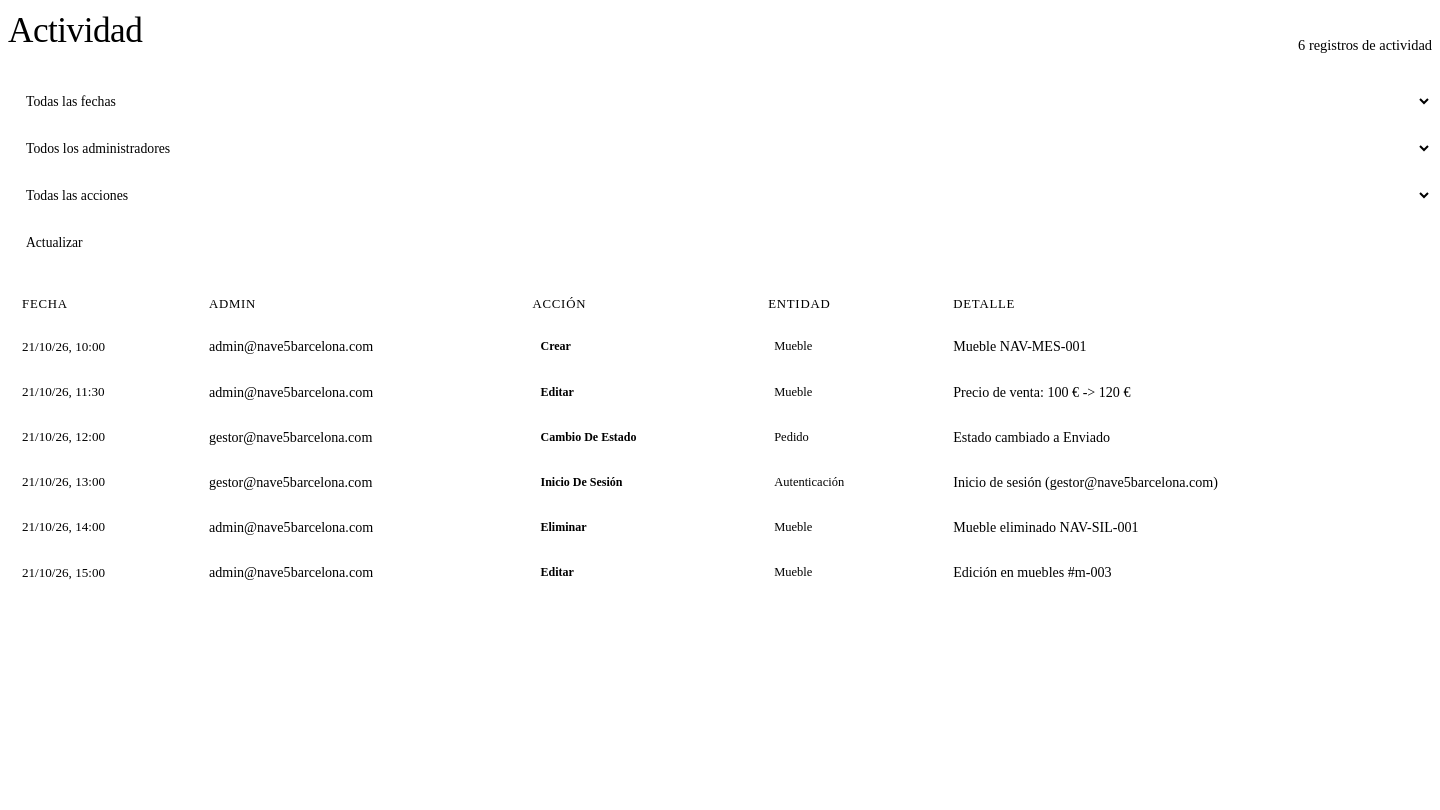
Scenario: ActividadTab › Filtros › filtra por acción
Expected: the text "Precio de venta: 100 € -> 120 €" is shown, [939,370,1432,415]
Select "Editar" in the dropdown named "Filtrar por acción" at (720, 195), box [8,178,1432,213]
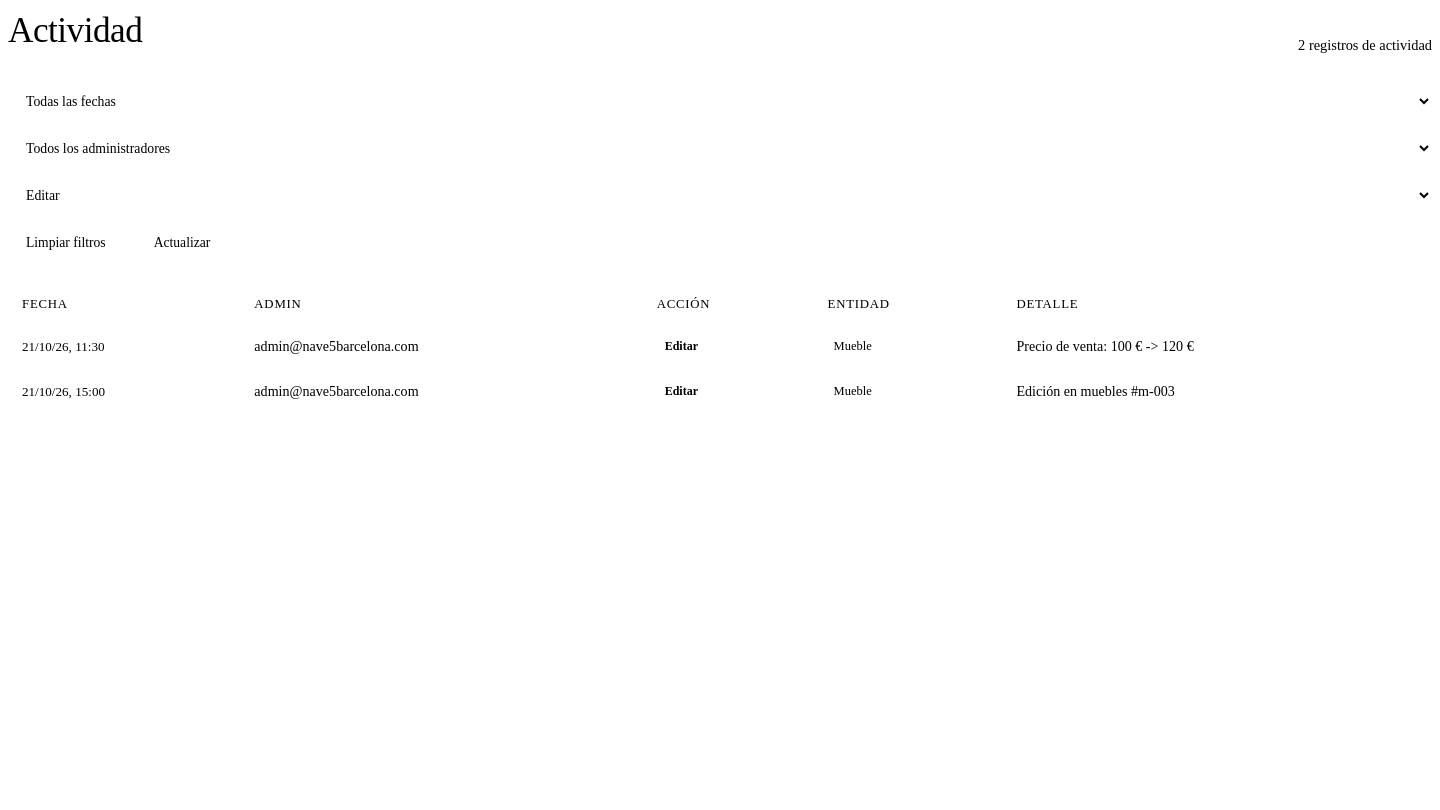
Expected: the text "Precio de venta: 100 € -> 120 €" is shown, [1002,324,1432,369]
Expected: the button "Estado cambiado a Enviado" is gone
